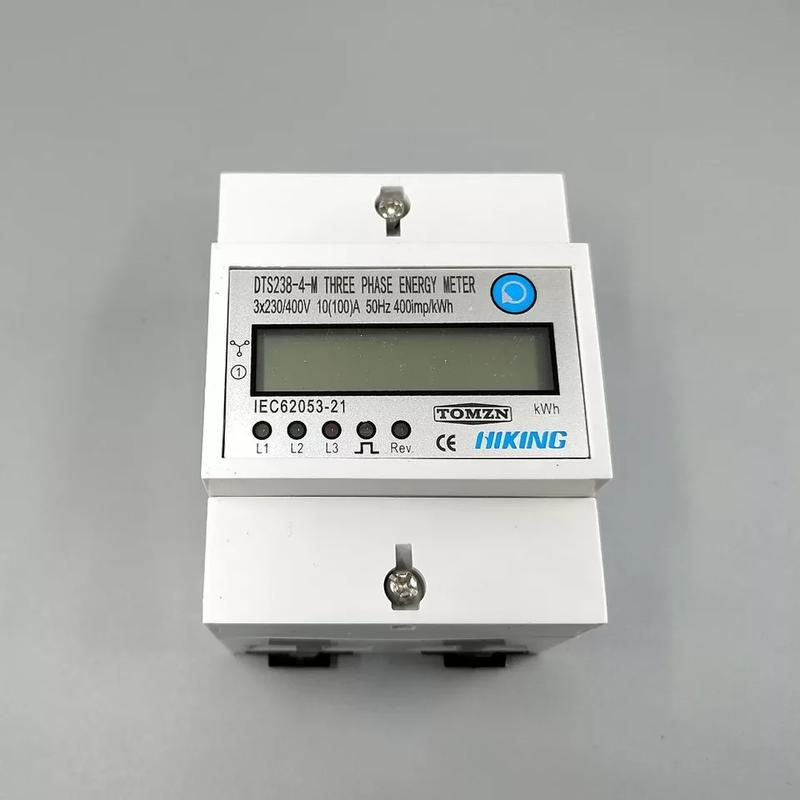counter: (208, 167, 614, 629)
counter_screen: (246, 318, 563, 402)
